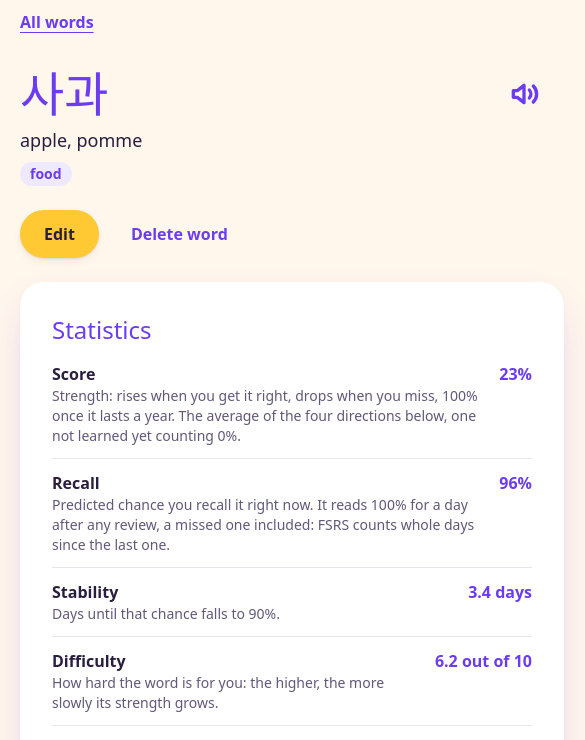
Test case: editing starts from the word as typed: translations and tags with commas
Step 1. Click the button "Edit" → coordinates (59, 234), box left=20, top=210, right=99, bottom=258
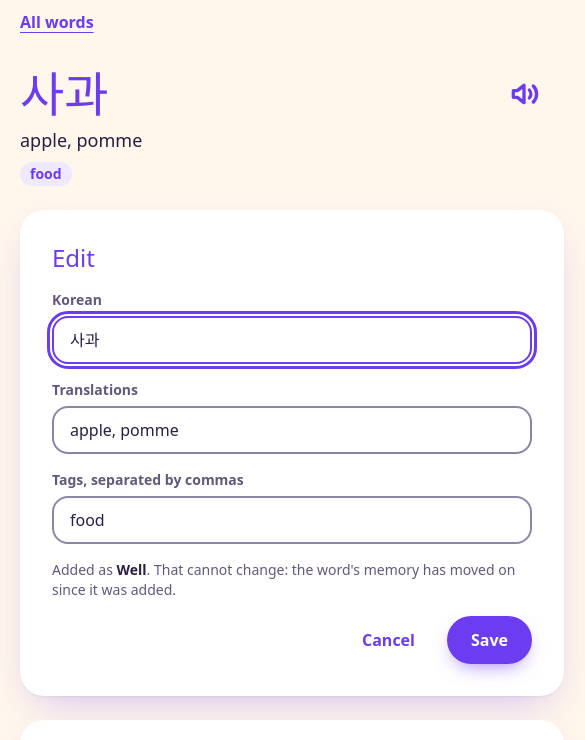
Check: the field labelled "Korean" holds "사과", box left=52, top=316, right=532, bottom=364
Check: the field labelled "Translations" holds "apple, pomme", box left=52, top=406, right=532, bottom=454
Check: the field labelled "Tags, separated by commas" holds "food", box left=52, top=496, right=532, bottom=544
